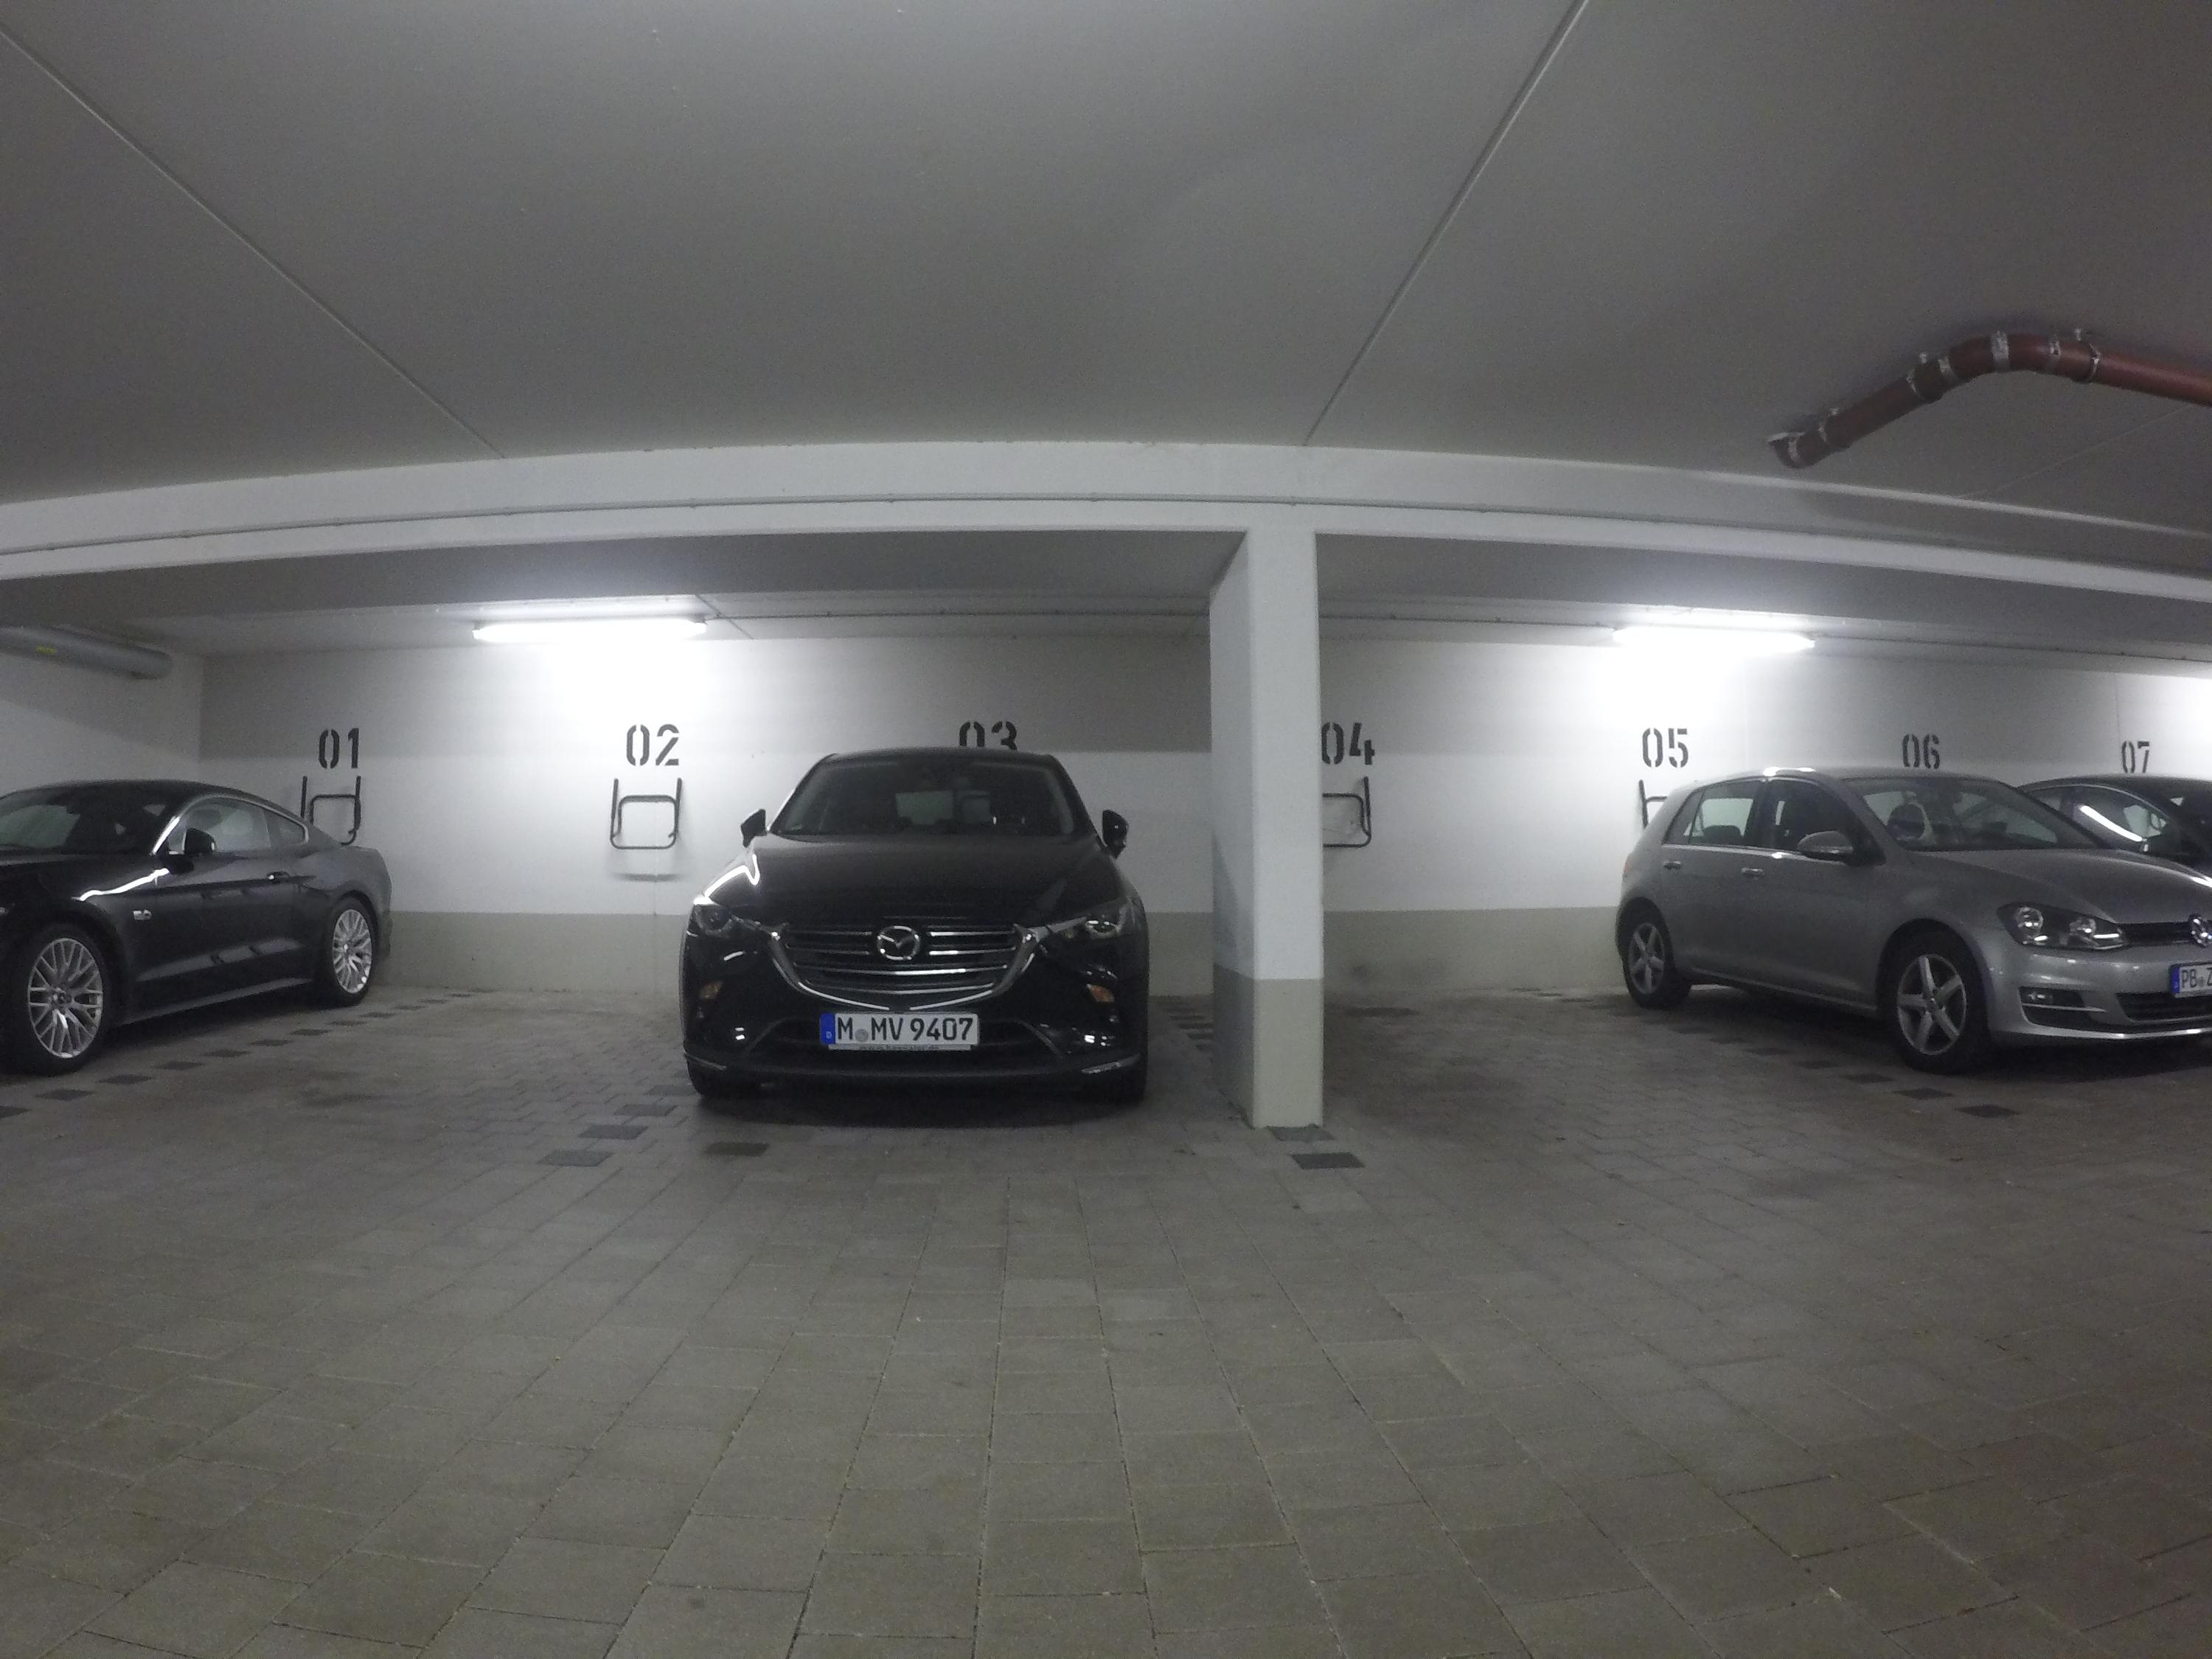0: (942, 1017, 958, 1041)
4: (927, 1018, 941, 1041)
7: (958, 1017, 974, 1040)
9: (909, 1016, 925, 1042)
B: (2189, 968, 2197, 988)
M: (870, 1017, 888, 1040), (837, 1015, 853, 1040)
P: (2181, 969, 2189, 988)
V: (888, 1016, 904, 1041)
Z: (2205, 967, 2212, 987)
